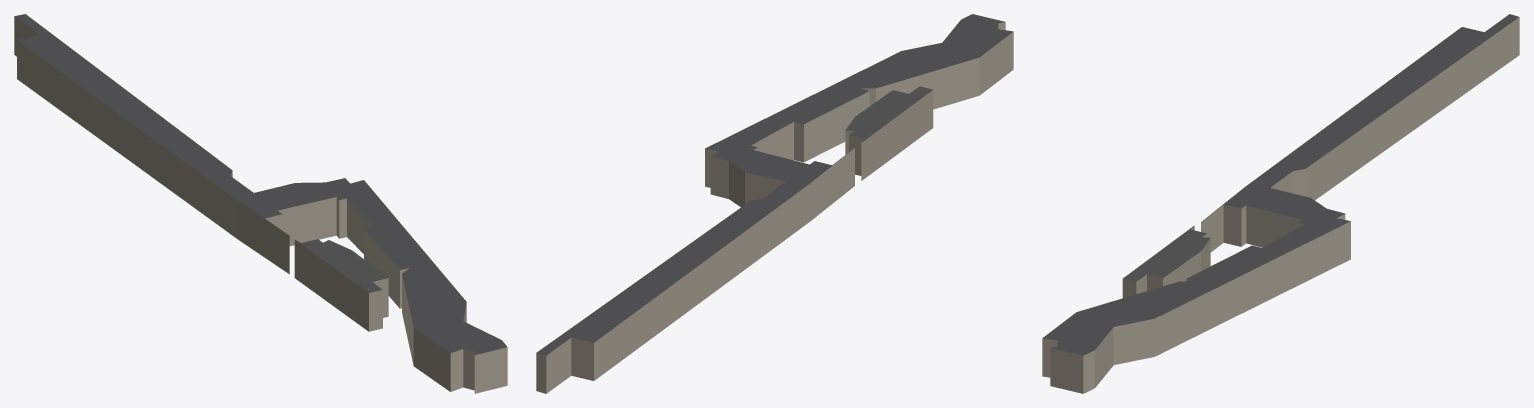
Rendered from 8_-2.far.glb.
The picture shows the model from 3 angles, left to right: view 1: azimuth 30°, elevation 25°; view 2: azimuth 150°, elevation 25°; view 3: azimuth 330°, elevation 25°; orthographic projection.
Parts seen in each view (by area): view 1: 8_-2_far; view 2: 8_-2_far; view 3: 8_-2_far.
Part boxes in pixels (x1=…): 8_-2_far: x1=14, y1=14, x2=507, y2=393; 8_-2_far: x1=536, y1=14, x2=1013, y2=393; 8_-2_far: x1=1042, y1=14, x2=1519, y2=393.
Bounding box in the file's own units: 70.16 × 22.51 × 479.
